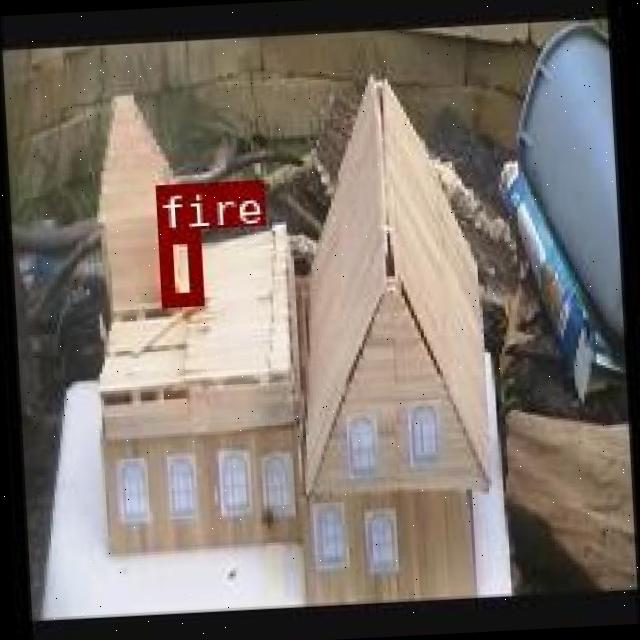fire: (158, 228, 202, 304)
